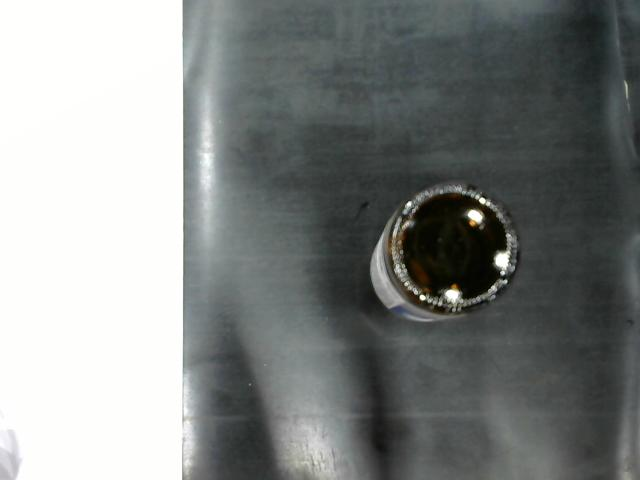glass: (349, 160, 534, 346)
